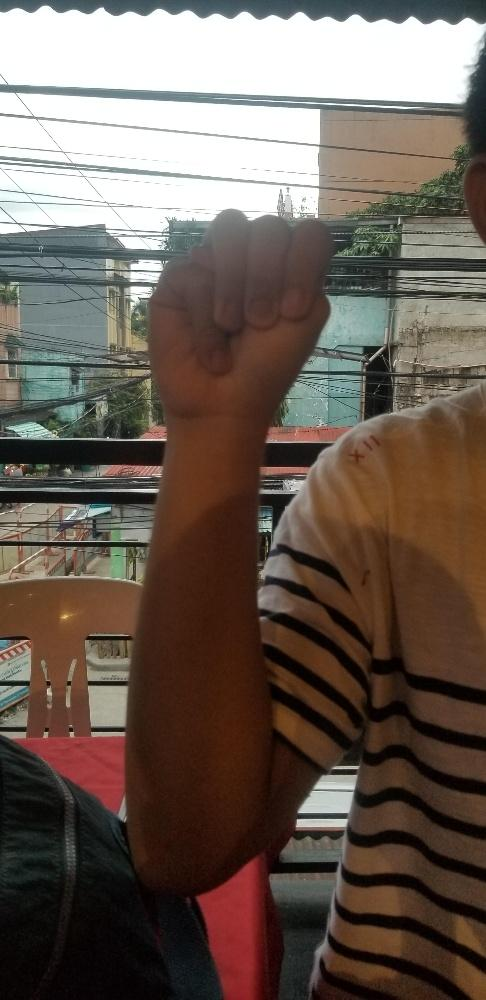m: (146, 204, 336, 417)
